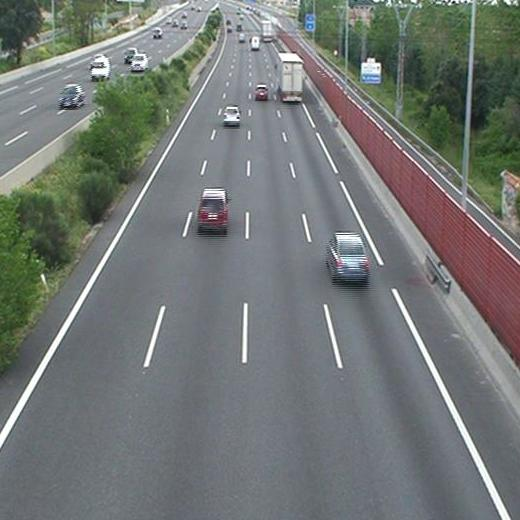car: (326, 235, 367, 280), (199, 190, 227, 229), (224, 107, 240, 126), (256, 85, 268, 101)
truck: (276, 53, 303, 100), (262, 22, 271, 42)
van: (238, 31, 246, 43), (251, 37, 259, 48)
